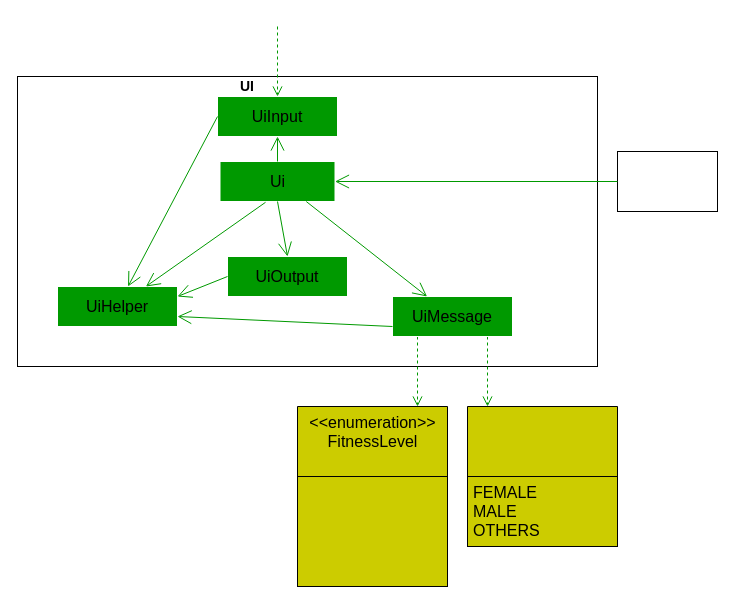
This 735x604 diagram has some shape labels left out. The box of each missing label's shape, as (x1, y1, x2, y2) in pixels:
<<enumeration>> Gender: (466, 406, 618, 546)
Logic: (616, 150, 718, 212)
NONE LOW MEDIUM HIGH EXTREME: (296, 476, 448, 586)
